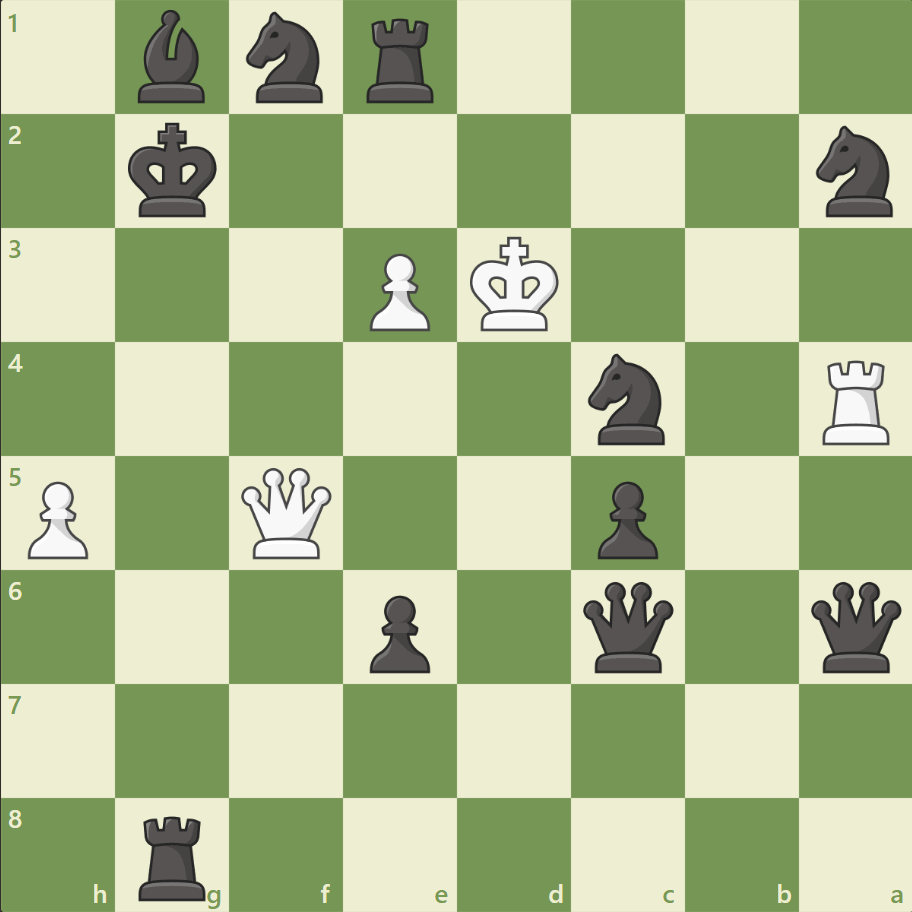K: (465, 231, 565, 339)
P: (20, 473, 95, 564), (361, 246, 435, 337)
Q: (237, 463, 336, 562)
R: (814, 352, 897, 449)
b: (131, 6, 215, 109)
k: (124, 117, 224, 225)
n: (238, 7, 335, 110), (579, 348, 676, 450), (806, 121, 903, 223)
p: (361, 586, 435, 677), (588, 473, 662, 564)
q: (805, 576, 904, 676), (578, 576, 677, 676)
r: (133, 806, 215, 904), (360, 12, 442, 109)
